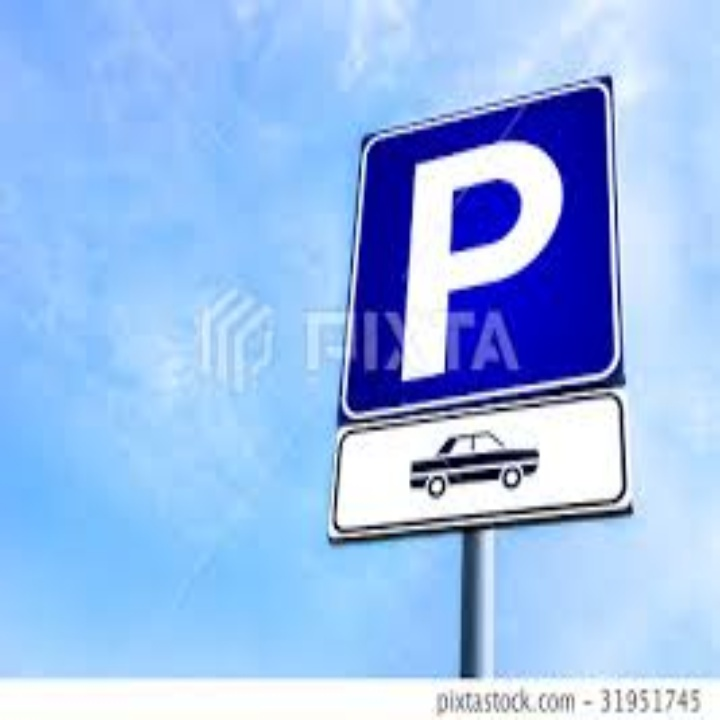parking: (400, 132, 568, 383)
